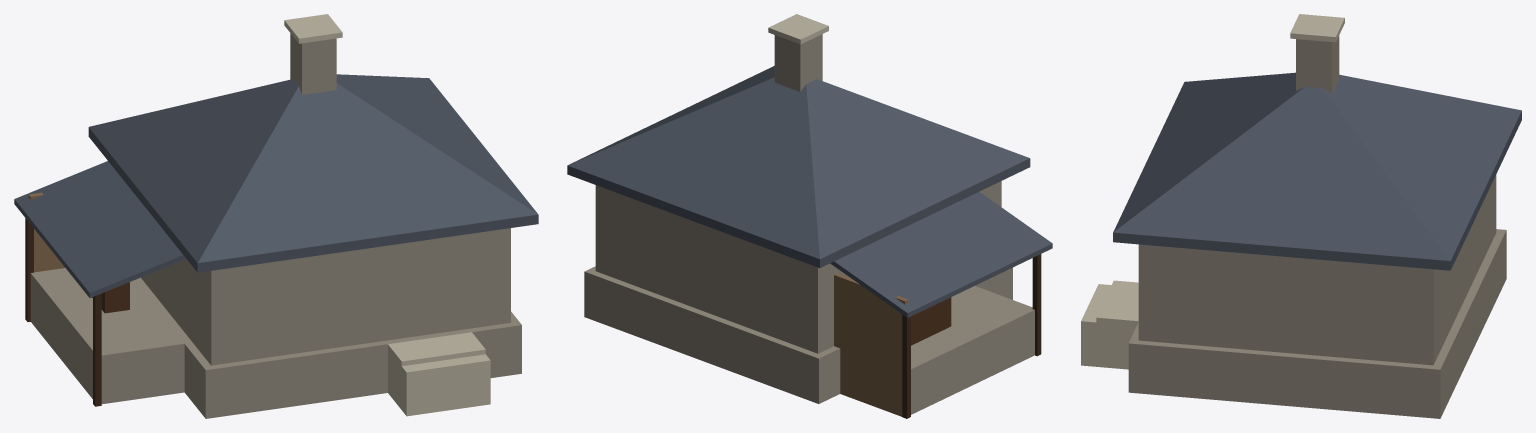
Rendered from SM_Millbrook_House3.fbx.
3 renders of one model, left to right at view 1: azimuth 30°, elevation 25°; view 2: azimuth 150°, elevation 25°; view 3: azimuth 270°, elevation 25°, orthographic. The views are drawn at different scales.
Visible parts, largest first — view 1: SM_Millbrook_House3; view 2: SM_Millbrook_House3; view 3: SM_Millbrook_House3.
Boxes of the visible parts, bbox=[...] form: SM_Millbrook_House3: bbox=[14, 14, 538, 418]; SM_Millbrook_House3: bbox=[567, 14, 1052, 418]; SM_Millbrook_House3: bbox=[1081, 14, 1521, 418].
Size of the model in its own units: 10.34 by 7.06 by 9.1.
